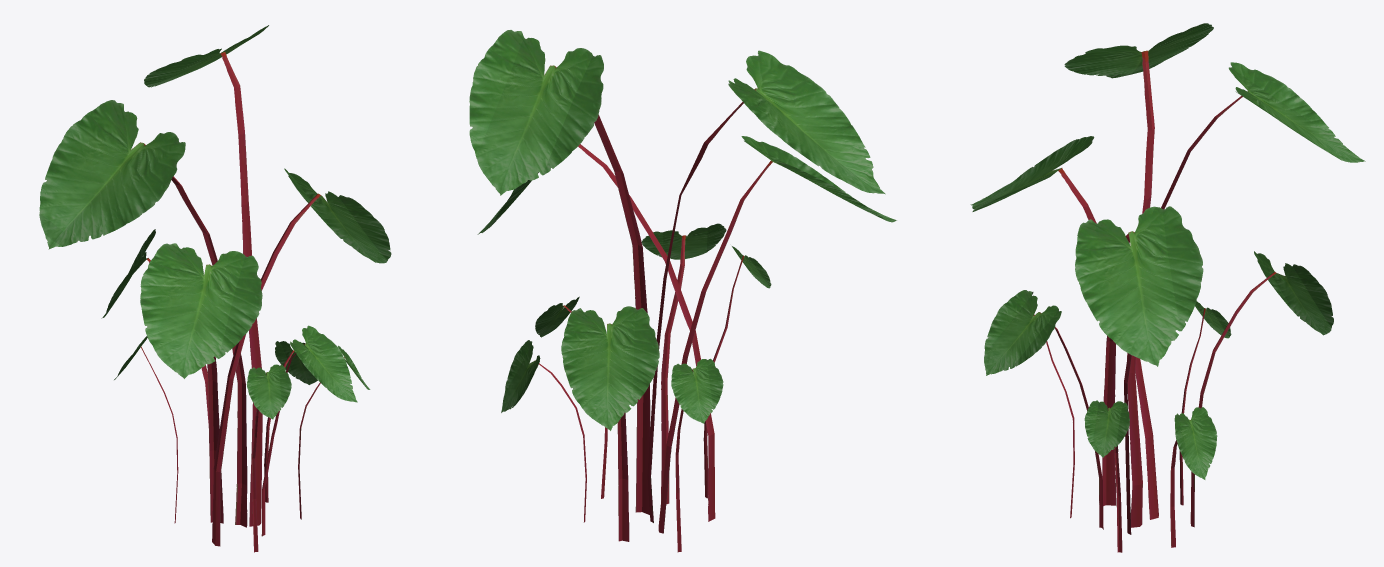
File: Colocasia3.fbx
3 views of the same model, side by side, from view 1: azimuth 30°, elevation 25°; view 2: azimuth 150°, elevation 25°; view 3: azimuth 270°, elevation 25° (orthographic). The views are drawn at different scales.
Parts seen in each view (by area): view 1: Colocasia.034; view 2: Colocasia.034; view 3: Colocasia.034.
Boxes of the visible parts, bbox=[...] form: Colocasia.034: bbox=[39, 25, 391, 552]; Colocasia.034: bbox=[469, 30, 896, 552]; Colocasia.034: bbox=[970, 23, 1365, 552].
Size of the model in its own units: 189 by 228 by 182.
